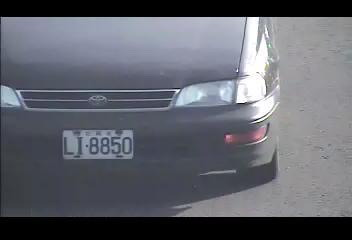plate: (60, 127, 135, 161)
